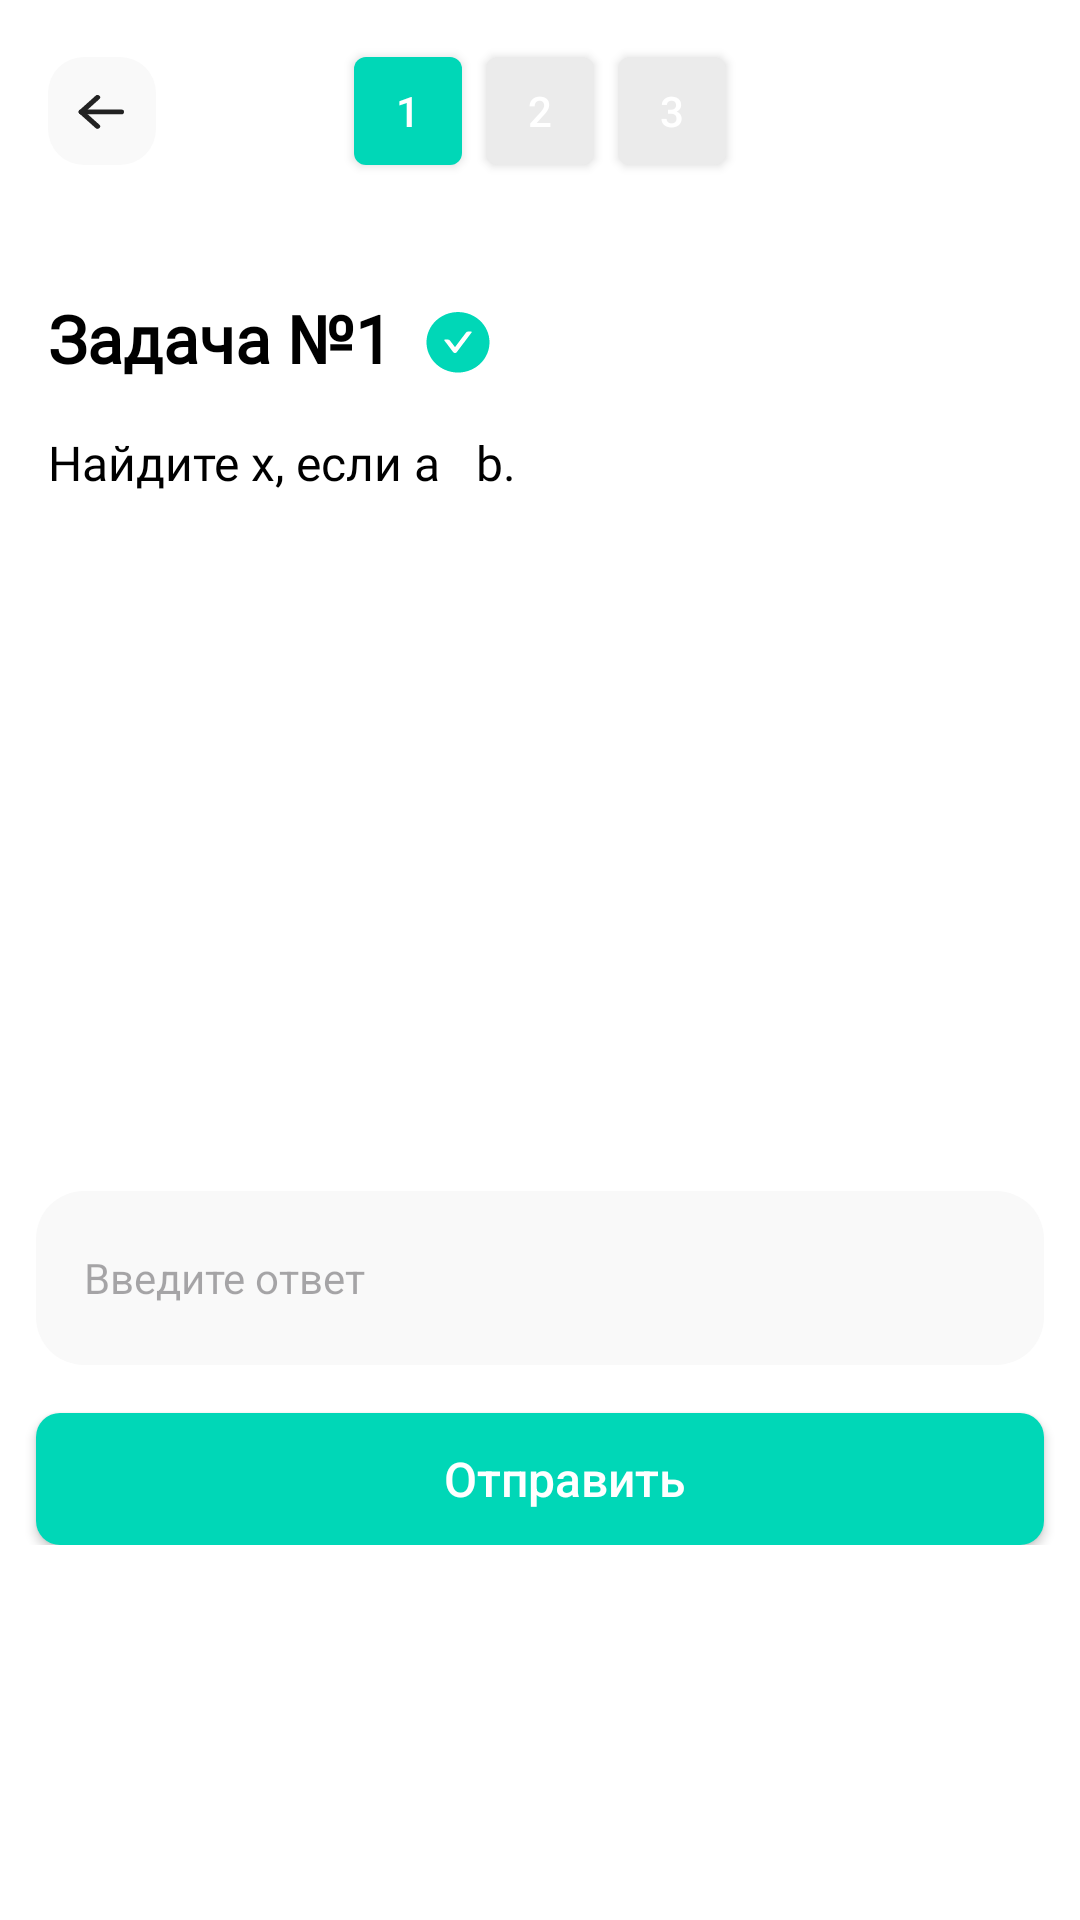

Where to tap for icons on this 1080*1920 app screen, as point (x, y):
complete: point (458, 342)
long arrow: point (101, 112)
